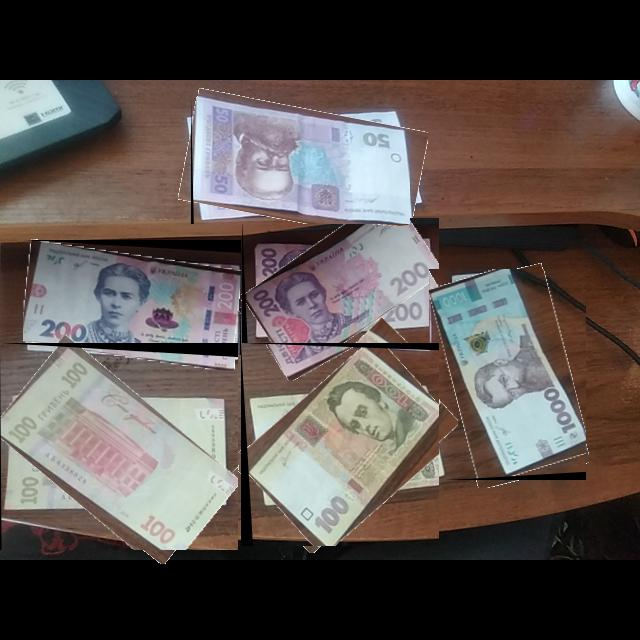1000uah: (430, 269, 587, 478)
100uah: (1, 347, 239, 551), (248, 347, 440, 547)
200uah: (245, 218, 440, 373), (23, 241, 242, 356)
50uah: (193, 97, 411, 225)
